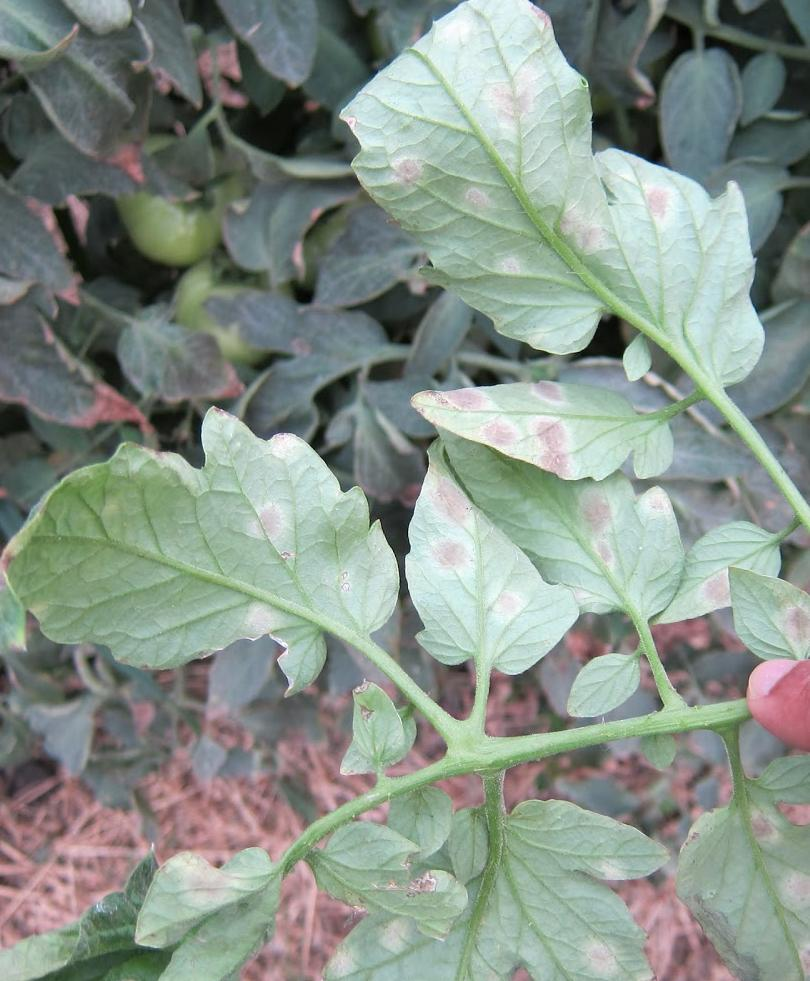Tomato mold leaf: (335, 0, 753, 394), (0, 405, 401, 682), (331, 804, 683, 981), (434, 413, 689, 631), (392, 433, 594, 683), (0, 837, 281, 981), (397, 349, 700, 476), (665, 754, 810, 981), (301, 812, 461, 946), (706, 541, 810, 662)
